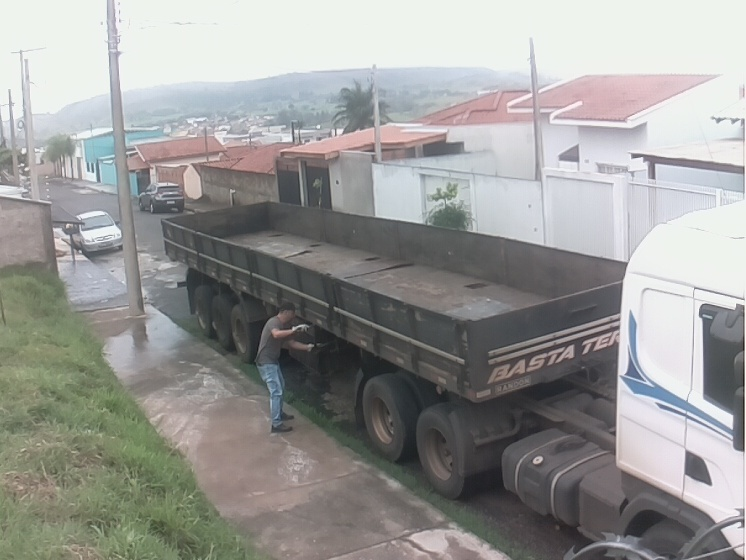person: (252, 300, 317, 434)
